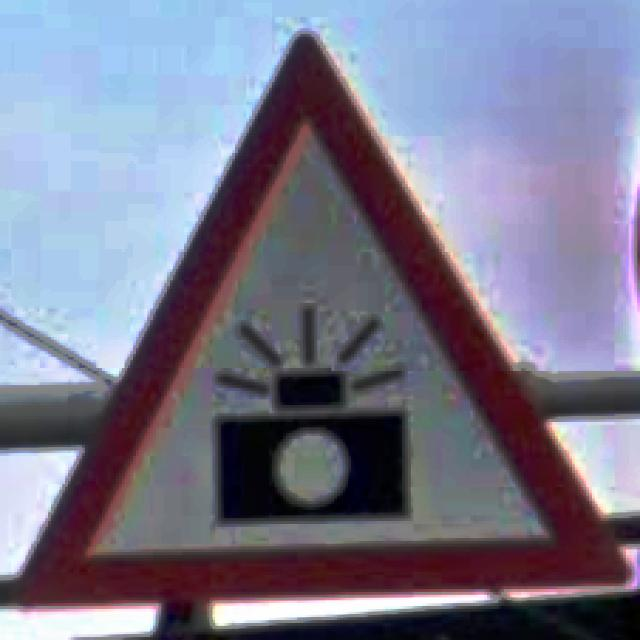speedcamera: (20, 36, 625, 603)
